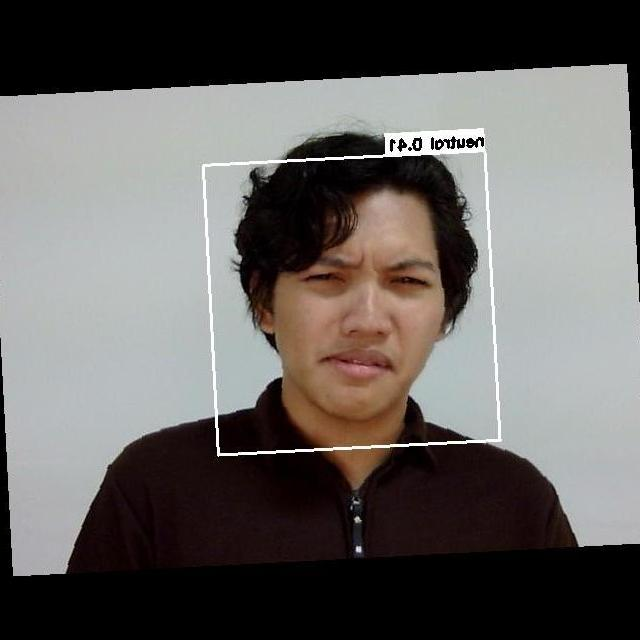Disgust: (259, 222, 462, 394)
